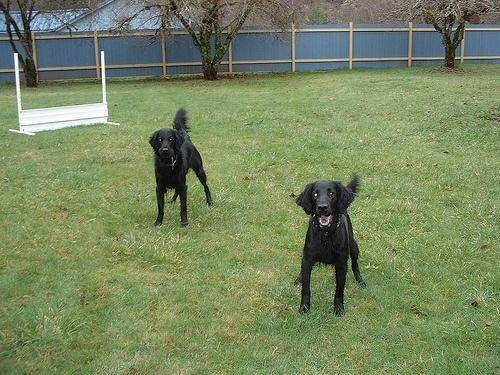dog: (294, 172, 372, 317), (148, 107, 216, 234)
